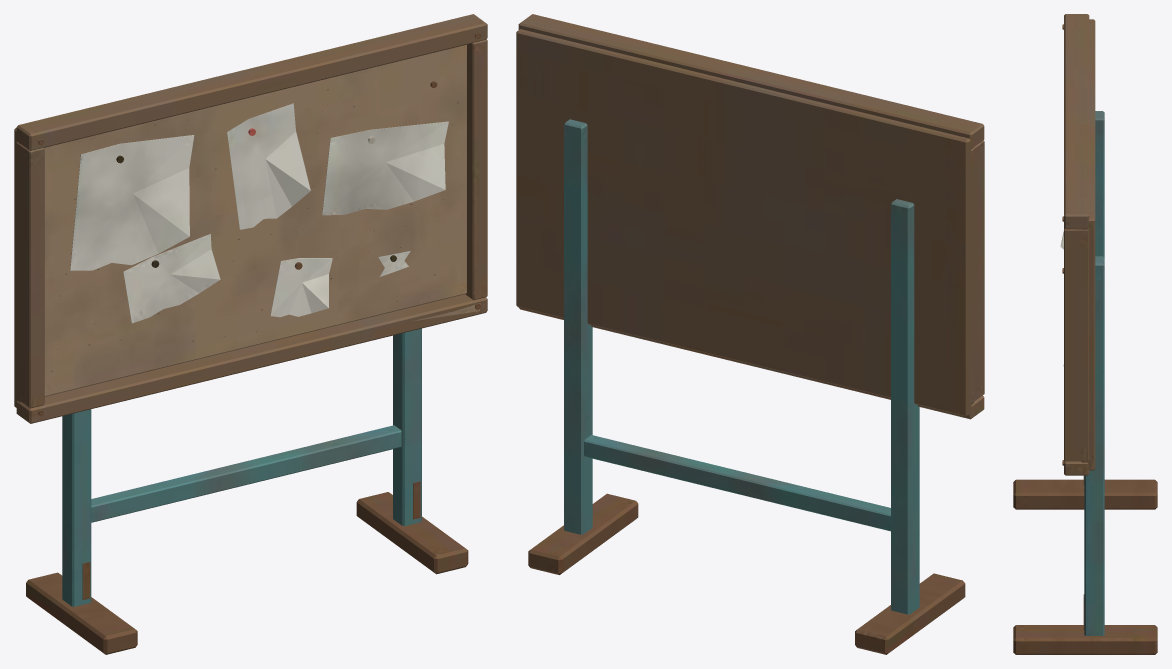
File: O23_notice_board.glb
3 renders of one model, left to right at view 1: azimuth 30°, elevation 25°; view 2: azimuth 150°, elevation 25°; view 3: azimuth 270°, elevation 25°, orthographic. The views are drawn at different scales.
Visible parts, largest first — view 1: Shoe; view 2: Shoe; view 3: Shoe.
Part boxes in pixels (<box>): Shoe: <box>14,14,487,654</box>; Shoe: <box>516,14,984,654</box>; Shoe: <box>1013,14,1157,654</box>.
Bounding box in the file's own units: 1.12 × 1.2 × 0.34.
Materials: 8 (8 with a texture image).
